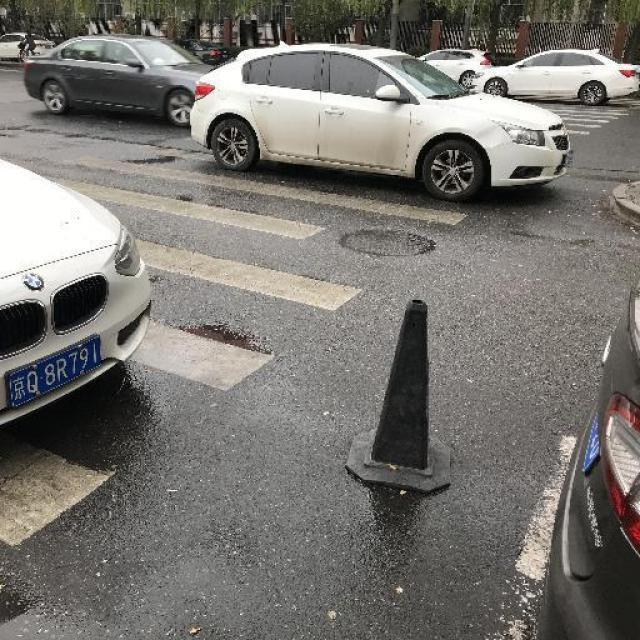crosswalk: (0, 73, 630, 556)
